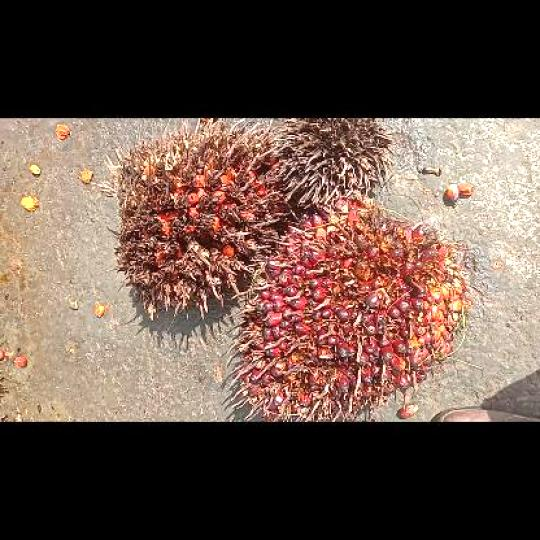masak: (222, 197, 476, 421)
terlalu masak: (98, 118, 291, 318)
